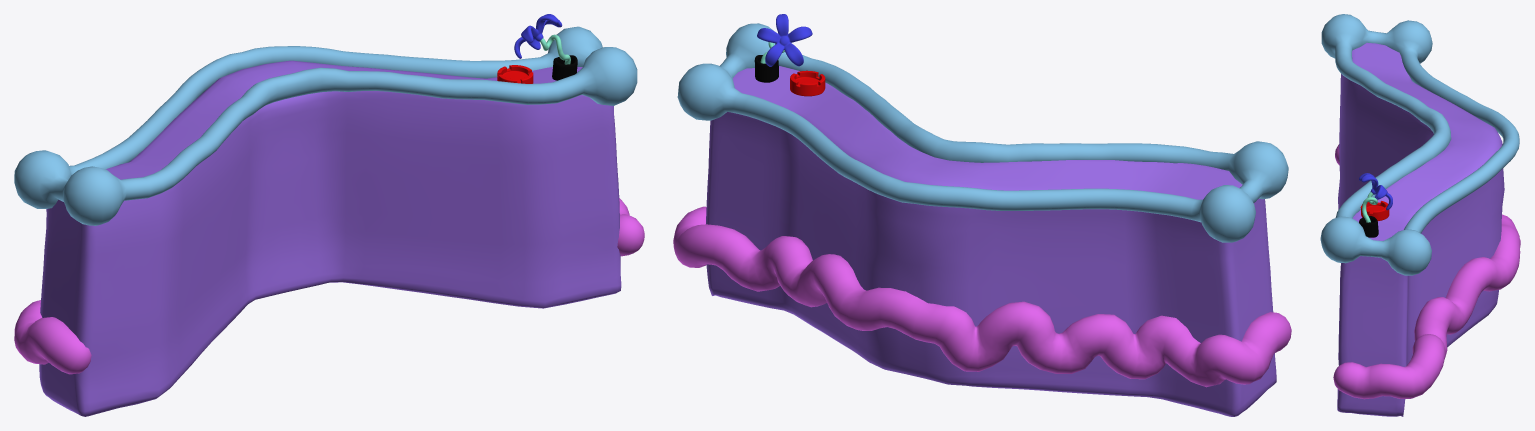
The model's file is desk.glb.
The picture shows the model from 3 angles, left to right: view 1: azimuth 30°, elevation 25°; view 2: azimuth 150°, elevation 25°; view 3: azimuth 270°, elevation 25°; orthographic projection. The views are drawn at different scales.
Parts seen in each view (by area): view 1: desk; view 2: desk; view 3: desk.
Part boxes in pixels (x1=…): desk: x1=14, y1=14, x2=644, y2=416; desk: x1=673, y1=14, x2=1291, y2=416; desk: x1=1320, y1=14, x2=1520, y2=416.
Bounding box in the file's own units: 3.49 × 1.57 × 1.28.
